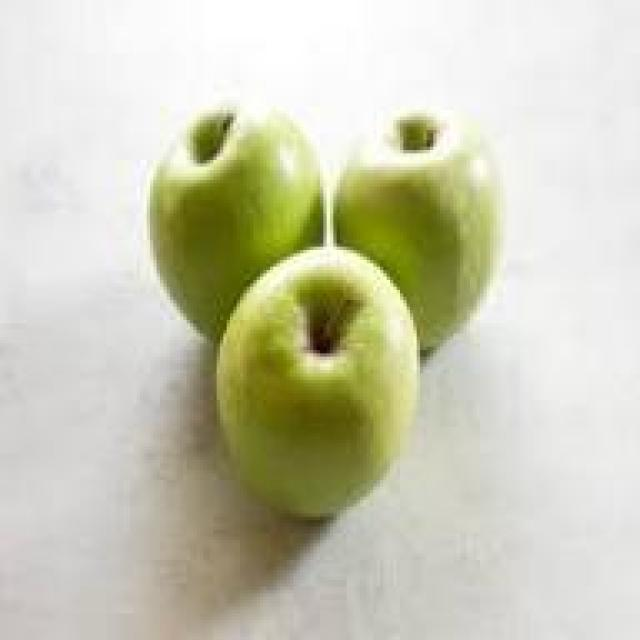apple: (213, 240, 440, 527), (143, 96, 337, 346), (343, 100, 507, 347)
